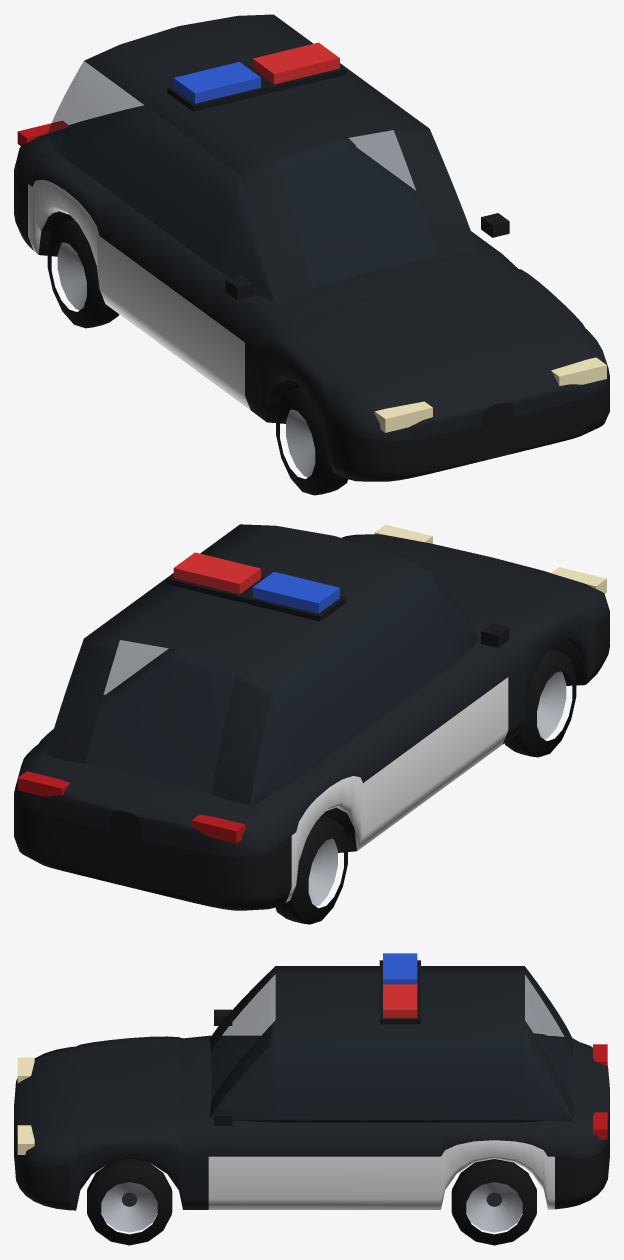
Rendered from mobile.glb.
The picture shows the model from 3 angles, top to bottom: view 1: azimuth 30°, elevation 25°; view 2: azimuth 150°, elevation 25°; view 3: azimuth 270°, elevation 25°; orthographic projection. The views are drawn at different scales.
Parts seen in each view (by area): view 1: body, glass, sirens, tyre_rr, tyre_fr, rim_rr, rim_fr, light_head_r, light_head_l; view 2: body, glass, sirens, tyre_rr, tyre_fr, rim_fr, rim_rr, light_brake_r, light_brake_l, light_head_r; view 3: body, glass, tyre_rl, tyre_fl, sirens, rim_fl, rim_rl, light_head_l.
Part boxes in pixels (bbox=[...]): body: bbox=[14, 14, 609, 481]; glass: bbox=[46, 61, 437, 301]; sirens: bbox=[173, 42, 339, 103]; tyre_rr: bbox=[47, 219, 119, 328]; tyre_fr: bbox=[276, 387, 347, 495]; rim_rr: bbox=[57, 242, 86, 310]; rim_fr: bbox=[286, 409, 315, 477]; light_head_r: bbox=[374, 401, 432, 432]; light_head_l: bbox=[551, 357, 606, 385]; body: bbox=[14, 524, 609, 910]; glass: bbox=[85, 571, 477, 806]; sirens: bbox=[173, 552, 339, 613]; tyre_rr: bbox=[275, 815, 347, 924]; tyre_fr: bbox=[504, 649, 576, 757]; rim_fr: bbox=[537, 671, 566, 739]; rim_rr: bbox=[308, 838, 337, 906]; light_brake_r: bbox=[191, 814, 245, 843]; light_brake_l: bbox=[17, 771, 69, 796]; light_head_r: bbox=[551, 567, 606, 593]; body: bbox=[14, 960, 609, 1210]; glass: bbox=[209, 974, 573, 1121]; tyre_rl: bbox=[451, 1159, 536, 1245]; tyre_fl: bbox=[87, 1159, 172, 1245]; sirens: bbox=[383, 953, 417, 1018]; rim_fl: bbox=[101, 1182, 157, 1232]; rim_rl: bbox=[466, 1182, 522, 1232]; light_head_l: bbox=[17, 1125, 34, 1154].
Size of what is drawn, in the model's own units: 2.07 by 1.96 by 4.9.
